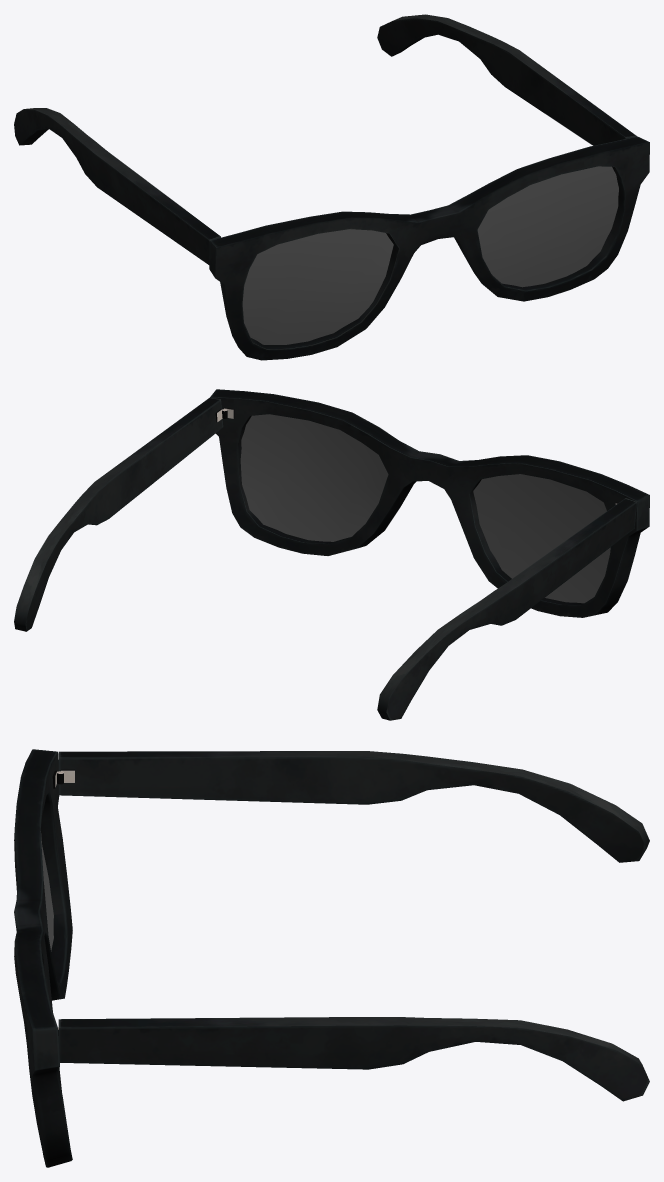
File: Wealth_ng_Sunglasses.FBX
The picture shows the model from 3 angles, top to bottom: view 1: azimuth 30°, elevation 25°; view 2: azimuth 150°, elevation 25°; view 3: azimuth 270°, elevation 25°; orthographic projection. The views are drawn at different scales.
Visible parts, largest first — view 1: Wealth_ng_Sunglasses; view 2: Wealth_ng_Sunglasses; view 3: Wealth_ng_Sunglasses.
Boxes of the visible parts, x1=… form: Wealth_ng_Sunglasses: x1=14, y1=14, x2=649, y2=360; Wealth_ng_Sunglasses: x1=14, y1=389, x2=649, y2=720; Wealth_ng_Sunglasses: x1=14, y1=749, x2=649, y2=1167.
Size of the model in its own units: 30.66 by 9.38 by 29.34.
